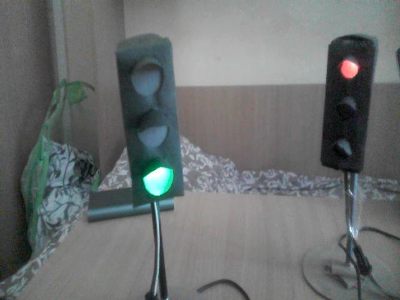trafficlight_green: (121, 50, 183, 197)
trafficlight_red: (322, 41, 376, 164)
